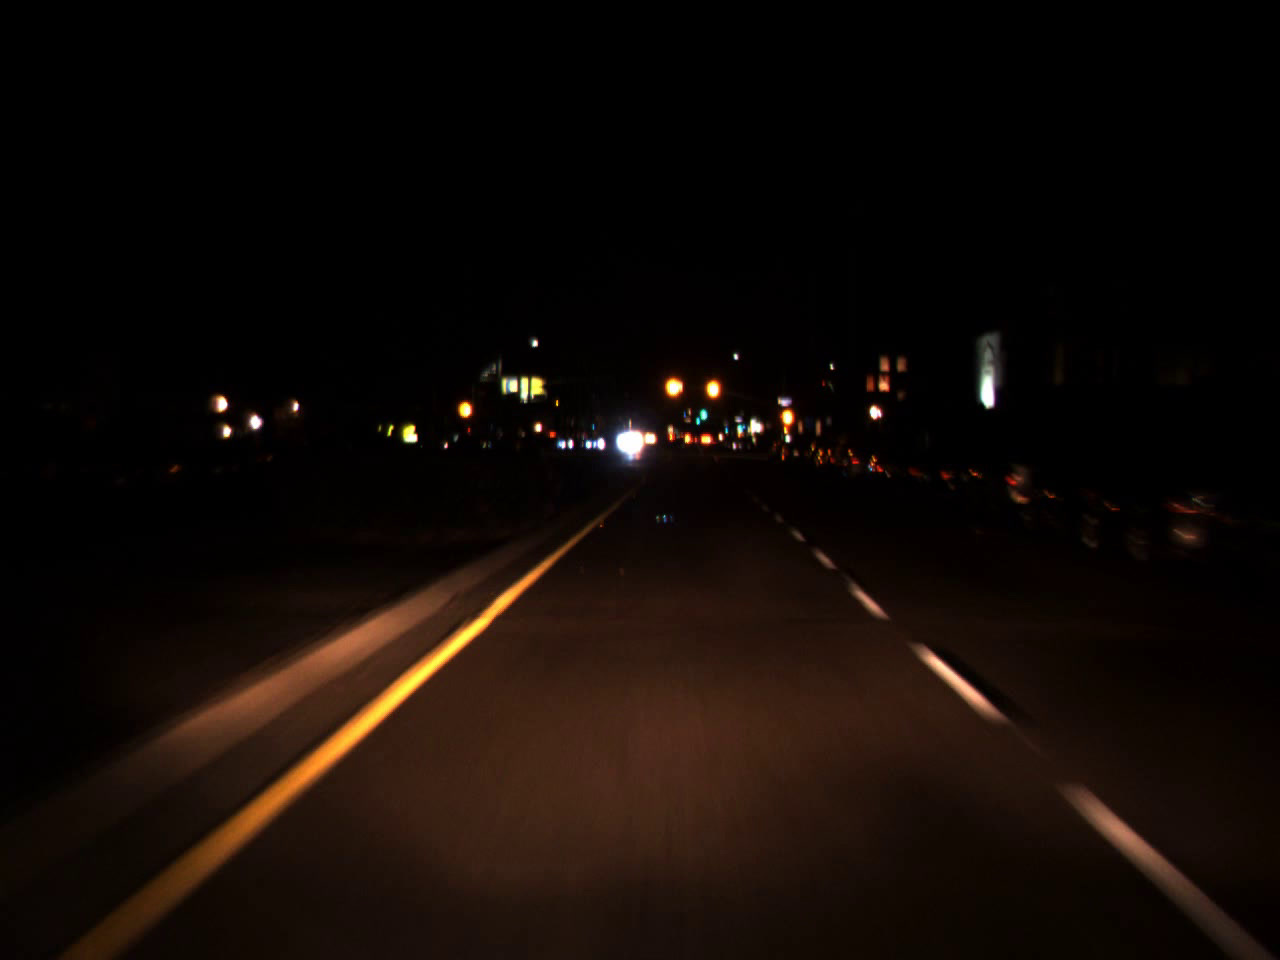go: (698, 395, 707, 425), (722, 410, 729, 437), (734, 417, 744, 432)
warning: (660, 362, 687, 409), (454, 389, 475, 429), (703, 365, 722, 410), (779, 398, 797, 430)
